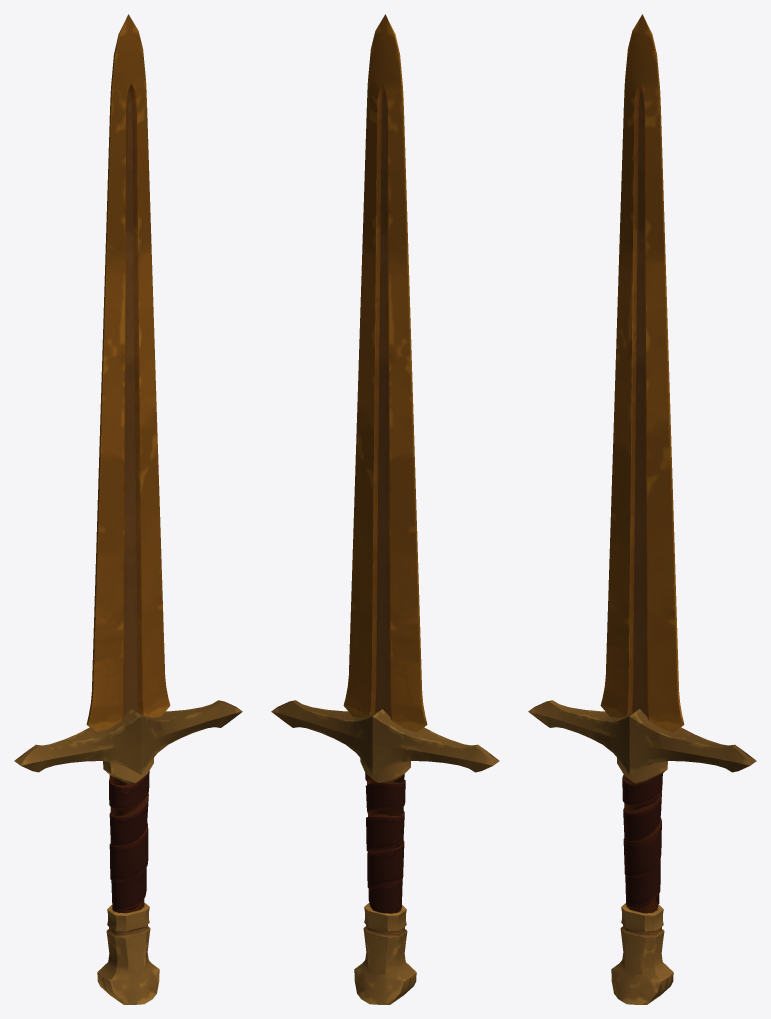
Rendered from greatsword.glb.
The picture shows the model from 3 angles, left to right: view 1: azimuth 30°, elevation 25°; view 2: azimuth 150°, elevation 25°; view 3: azimuth 330°, elevation 25°; orthographic projection.
Parts seen in each view (by area): view 1: Sword_Bronze; view 2: Sword_Bronze; view 3: Sword_Bronze.
Boxes of the visible parts, x1=… form: Sword_Bronze: x1=14, y1=14, x2=242, y2=1004; Sword_Bronze: x1=271, y1=14, x2=499, y2=1004; Sword_Bronze: x1=528, y1=14, x2=756, y2=1004.
Bounding box in the file's own units: 0.2665 × 1.13 × 0.0654.
1 material, 1 textured.
